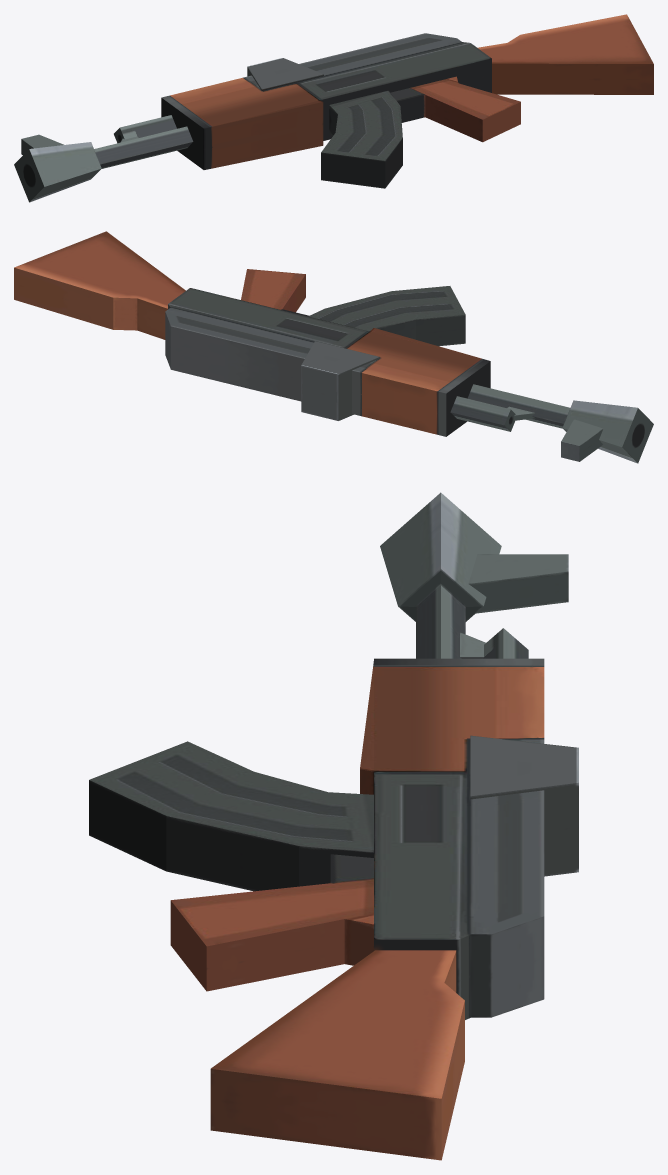
The model's file is weapon_ak47.FBX.
The picture shows the model from 3 angles, top to bottom: view 1: azimuth 30°, elevation 25°; view 2: azimuth 150°, elevation 25°; view 3: azimuth 270°, elevation 25°; orthographic projection. The views are drawn at different scales.
Parts seen in each view (by area): view 1: weapon_ak47; view 2: weapon_ak47; view 3: weapon_ak47.
Boxes of the visible parts, left/top/right/bottom form: weapon_ak47: left=14, top=14, right=653, bottom=202; weapon_ak47: left=14, top=231, right=653, bottom=463; weapon_ak47: left=89, top=492, right=578, bottom=1160.
Bounding box in the file's own units: 171 × 14.61 × 60.53.
